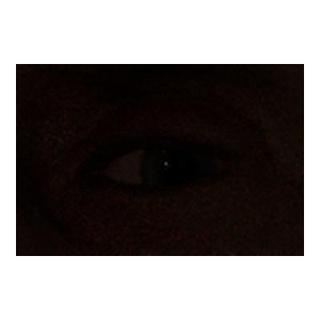pupil: (159, 151, 196, 188)
